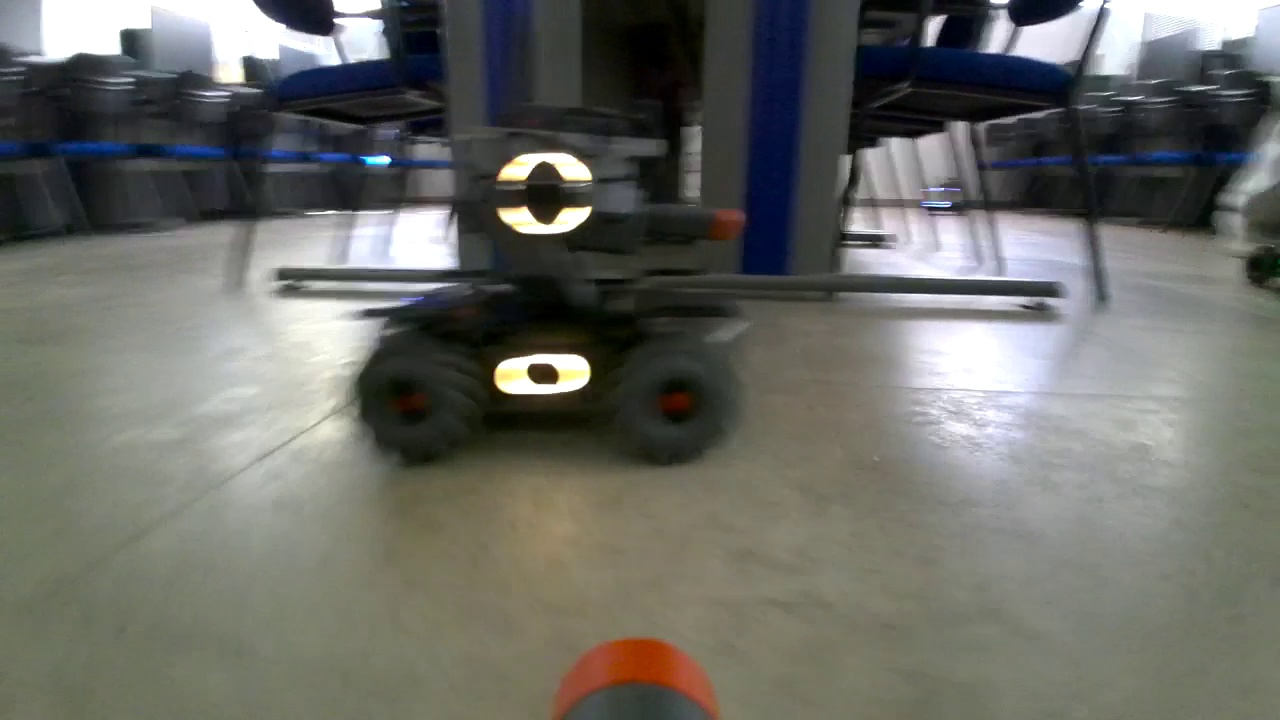robot: (363, 50, 739, 461)
